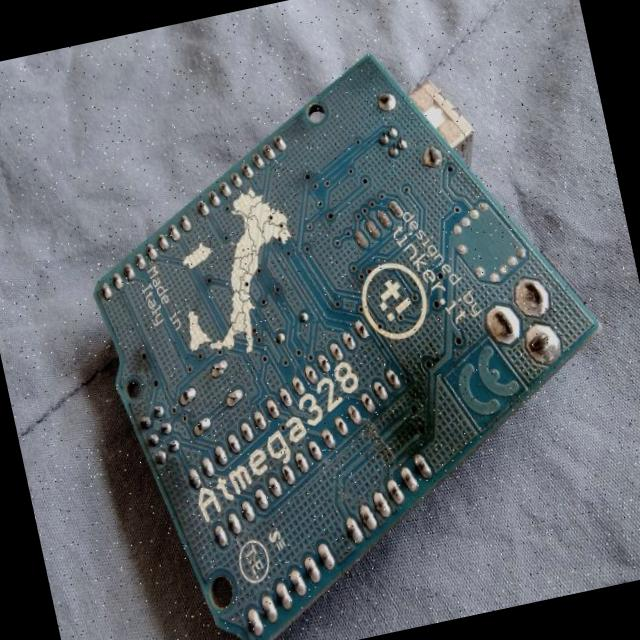arduino: (45, 11, 640, 640)
